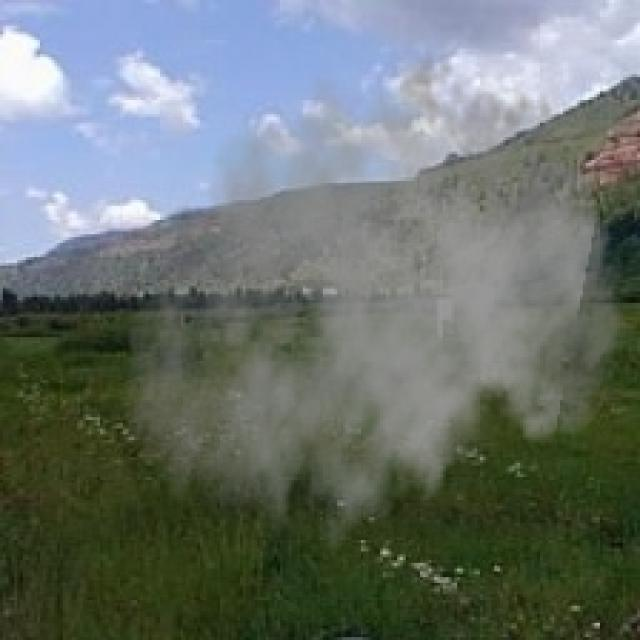Smoke: (120, 31, 634, 578)
